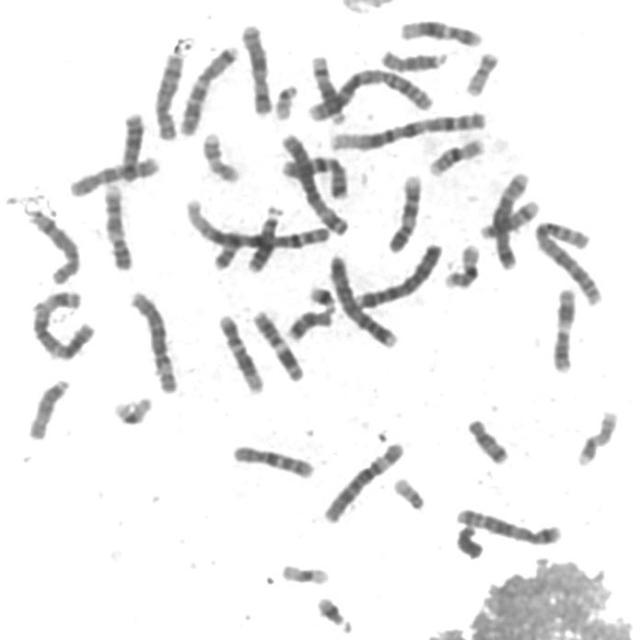A1: (180, 192, 332, 253), (323, 104, 489, 153)
A2: (302, 61, 436, 123), (529, 214, 606, 307)
A3: (274, 127, 352, 237), (25, 284, 97, 362)
B4: (324, 248, 401, 349), (352, 236, 445, 310)
B5: (450, 501, 564, 547), (488, 166, 533, 271)
C10: (63, 149, 162, 199), (226, 438, 316, 481)
C11: (247, 304, 306, 384), (546, 282, 579, 374)
C12: (213, 308, 266, 395), (394, 13, 484, 47)
C6: (318, 435, 407, 525), (124, 284, 180, 396)
C7: (172, 38, 240, 137), (275, 148, 352, 201)
C8: (21, 203, 83, 286), (148, 46, 186, 142)
C9: (383, 168, 425, 255), (98, 178, 136, 272)
D13: (240, 199, 286, 274), (115, 106, 146, 184)
D14: (305, 48, 349, 125), (475, 193, 542, 241)
D15: (21, 372, 72, 442), (375, 42, 450, 74)
E16: (423, 130, 488, 178), (438, 237, 484, 291)
E17: (572, 405, 620, 467), (197, 126, 243, 184)
E18: (461, 412, 511, 466), (280, 303, 335, 343)
F19: (107, 392, 159, 427), (276, 556, 332, 587)
F20: (459, 45, 502, 98), (208, 226, 244, 271)
G21: (310, 590, 356, 634), (303, 278, 339, 314)
G22: (388, 471, 427, 511), (268, 78, 300, 122)
X: (235, 17, 275, 117)
Y: (451, 519, 486, 560)
